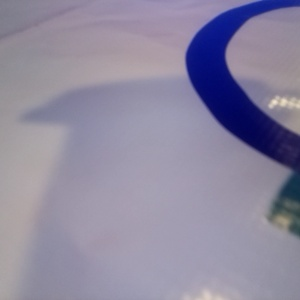bottom_right: (112, 12, 195, 41)
top_right: (102, 95, 222, 164)
